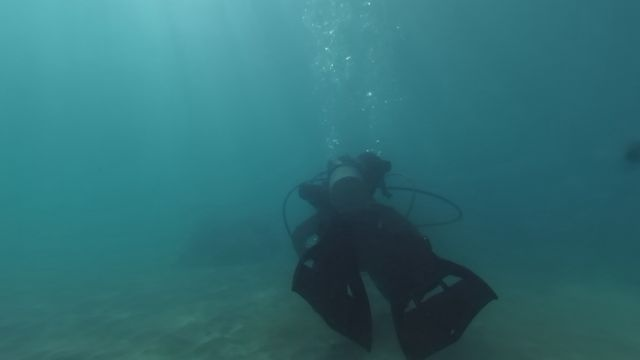Diver: (274, 146, 520, 355)
